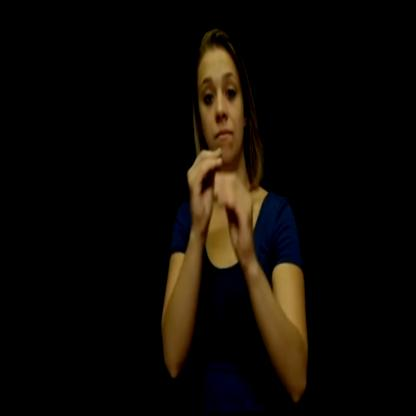Fix: (171, 124, 270, 301)
